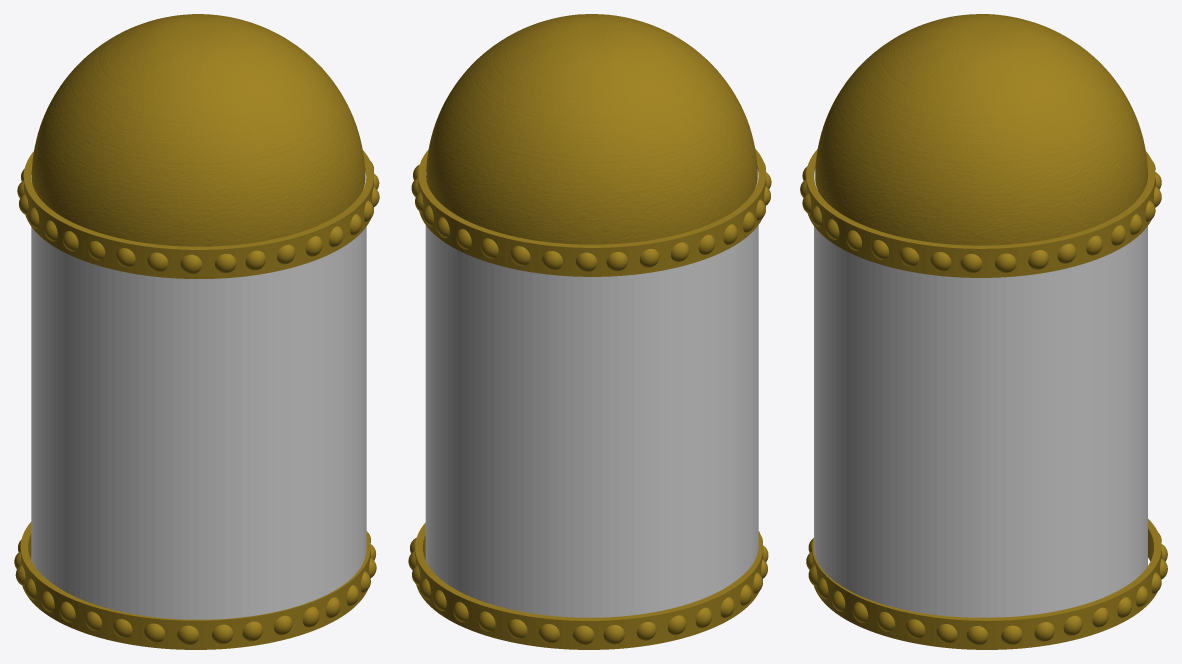
Rendered from Steampunk Glass Cylinder New Brass Trim 4.glb.
3 renders of one model, left to right at view 1: azimuth 30°, elevation 25°; view 2: azimuth 150°, elevation 25°; view 3: azimuth 270°, elevation 25°, orthographic.
Size of the model in its own units: 0.1519 by 0.2513 by 0.1537.
